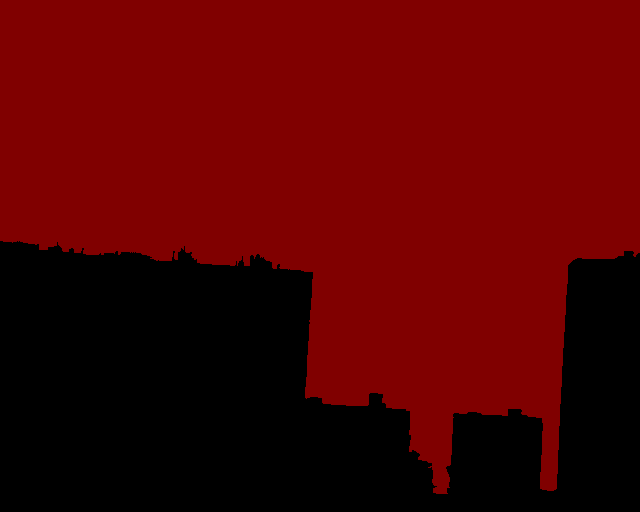Sky: (1, 1, 639, 493)
